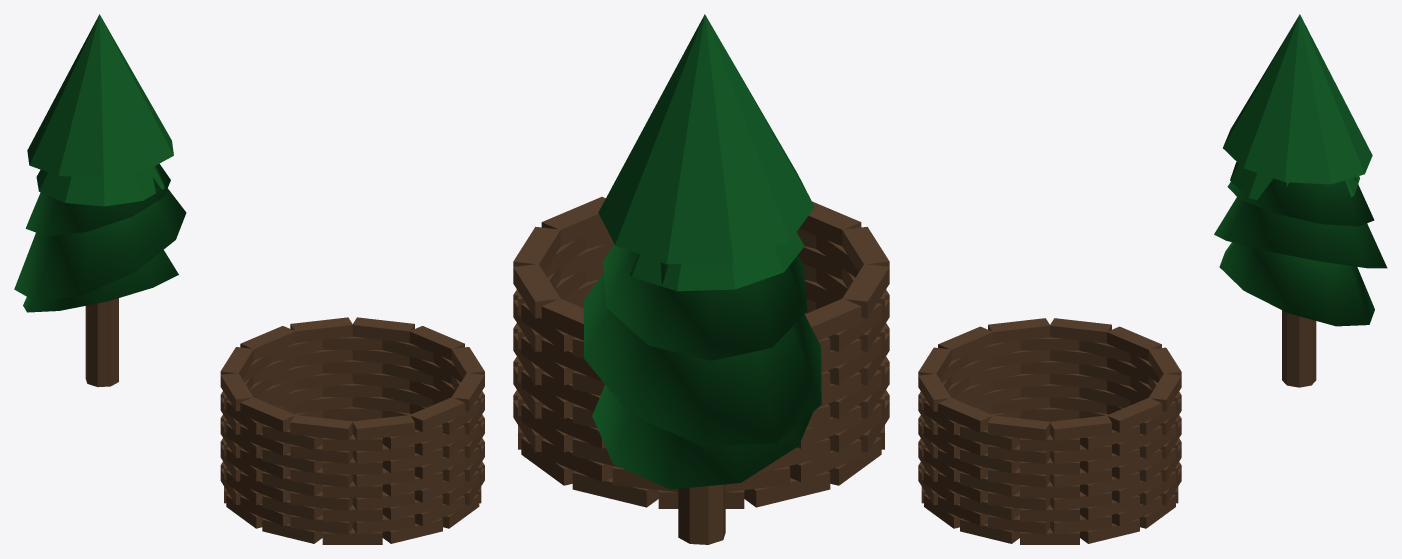
3 views of the same model, side by side, from view 1: azimuth 30°, elevation 25°; view 2: azimuth 150°, elevation 25°; view 3: azimuth 270°, elevation 25° (orthographic). The views are drawn at different scales.
Parts seen in each view (by area): view 1: Leaves.004, Leaves.001, Leaves.002, Leaves.003, Cylinder, Leaves, Cube.151, Cube.152, Cube.145, Cube.146, Cube.153, Cube.150 (+53 smaller); view 2: Leaves.004, Leaves.001, Leaves.002, Leaves, Leaves.003, Cylinder, Cube.148, Cube.146, Cube.153, Cube.154, Cube, Cube.011 (+43 smaller); view 3: Leaves.004, Leaves, Leaves.001, Leaves.002, Cylinder, Cube.147, Cube.148, Cube.153, Cube.154, Cube.149, Cube.146, Leaves.003 (+53 smaller).
Part boxes in pixels (bbox=[...]): Leaves.004: bbox=[27, 14, 173, 177]; Leaves.001: bbox=[14, 188, 186, 301]; Leaves.002: bbox=[25, 163, 170, 236]; Leaves.003: bbox=[36, 166, 164, 206]; Cylinder: bbox=[85, 298, 118, 387]; Leaves: bbox=[23, 250, 178, 312]; Cube.151: bbox=[352, 415, 414, 440]; Cube.152: bbox=[290, 415, 352, 440]; Cube.145: bbox=[290, 317, 352, 342]; Cube.146: bbox=[352, 317, 414, 342]; Cube.153: bbox=[240, 397, 294, 432]; Cube.150: bbox=[410, 397, 464, 432]; Leaves.004: bbox=[598, 14, 814, 264]; Leaves.001: bbox=[583, 272, 821, 446]; Leaves.002: bbox=[603, 244, 807, 360]; Leaves: bbox=[592, 385, 812, 489]; Leaves.003: bbox=[630, 232, 804, 291]; Cylinder: bbox=[678, 484, 725, 544]; Cube.148: bbox=[541, 197, 605, 246]; Cube.146: bbox=[513, 264, 560, 318]; Cube.153: bbox=[842, 264, 889, 318]; Cube.154: bbox=[805, 299, 861, 340]; Cube: bbox=[572, 471, 658, 507]; Cube.011: bbox=[744, 471, 830, 507]; Leaves.004: bbox=[1223, 14, 1372, 184]; Leaves: bbox=[1219, 242, 1374, 326]; Leaves.001: bbox=[1214, 197, 1387, 268]; Leaves.002: bbox=[1227, 177, 1374, 226]; Cylinder: bbox=[1282, 310, 1316, 387]; Cube.147: bbox=[1050, 415, 1111, 440]; Cube.148: bbox=[988, 415, 1049, 440]; Cube.153: bbox=[988, 318, 1050, 343]; Cube.154: bbox=[1050, 318, 1111, 343]; Cube.149: bbox=[938, 397, 992, 432]; Cube.146: bbox=[1107, 398, 1161, 432]; Leaves.003: bbox=[1230, 162, 1359, 199].
Size of what is drawn, in the model's own units: 3.14 by 3.96 by 4.07.
